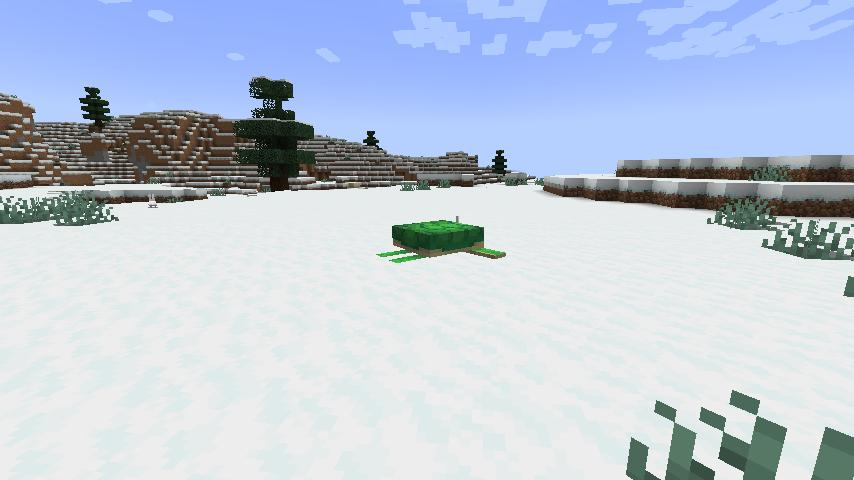turtle: (377, 217, 507, 267)
